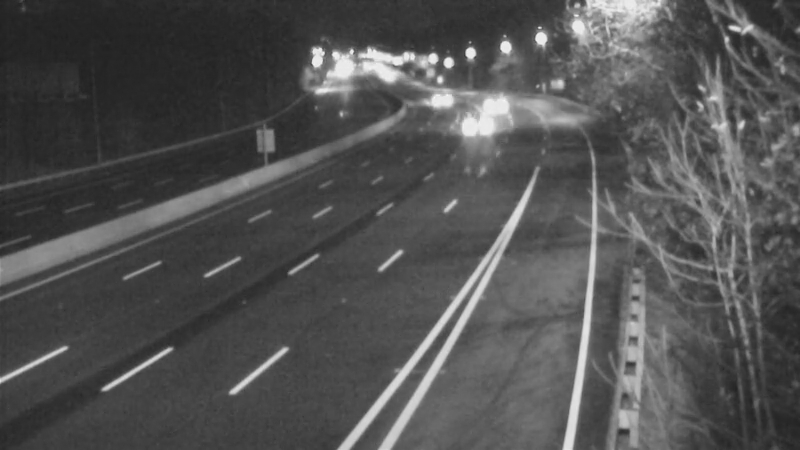vehicle: (408, 74, 458, 124), (470, 79, 520, 129), (457, 100, 507, 150)
